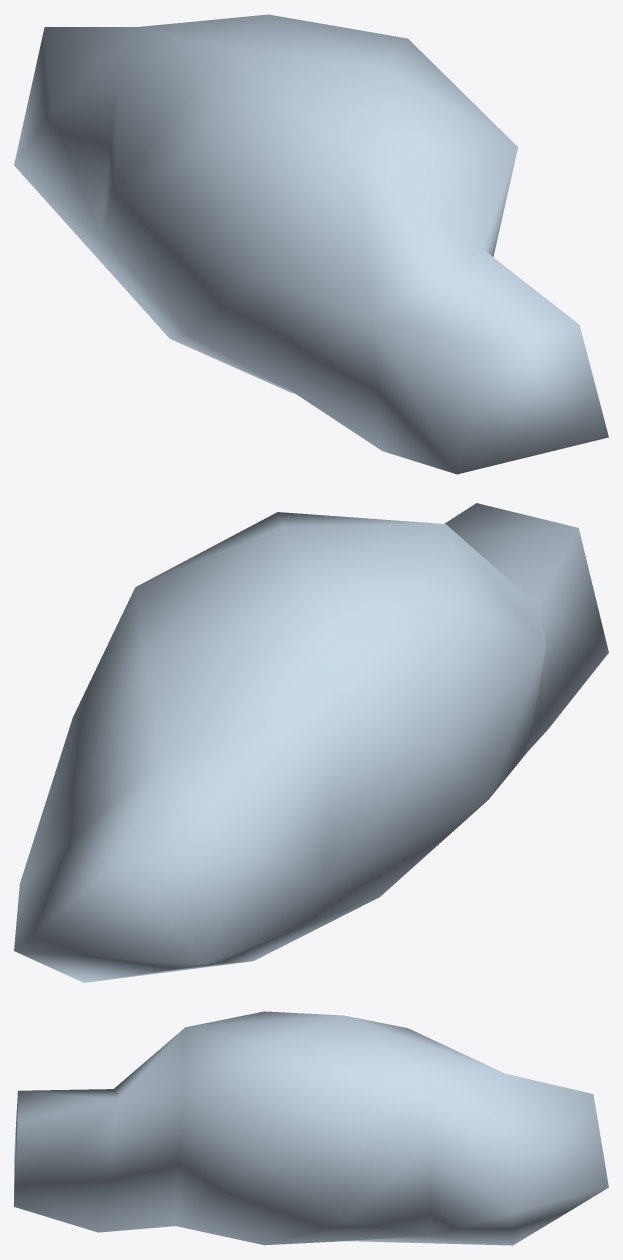
File: Nuvem 04.fbx
3 renders of one model, top to bottom at view 1: azimuth 30°, elevation 25°; view 2: azimuth 150°, elevation 25°; view 3: azimuth 270°, elevation 25°, orthographic. The views are drawn at different scales.
Parts seen in each view (by area): view 1: Sphere.004; view 2: Sphere.004; view 3: Sphere.004.
Part boxes in pixels (x1=…): Sphere.004: x1=14, y1=14, x2=608, y2=474; Sphere.004: x1=14, y1=503, x2=608, y2=982; Sphere.004: x1=14, y1=1011, x2=608, y2=1245.
Size of the model in its own units: 122 by 107 by 290.
